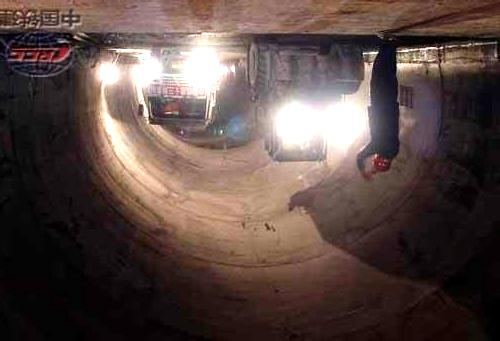helmet: (371, 152, 393, 173)
